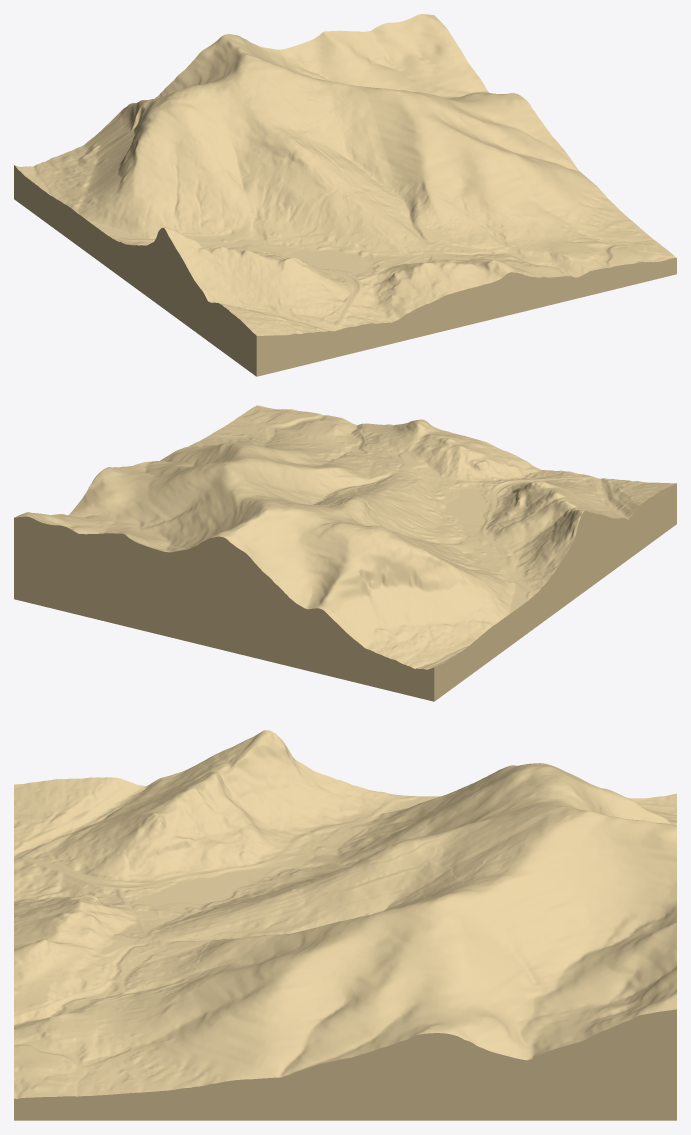
Rendered from cannon-tan.glb.
3 renders of one model, top to bottom at view 1: azimuth 30°, elevation 25°; view 2: azimuth 150°, elevation 25°; view 3: azimuth 270°, elevation 25°, orthographic. The views are drawn at different scales.
Parts seen in each view (by area): view 1: cannon cavity v2; view 2: cannon cavity v2; view 3: cannon cavity v2.
Boxes of the visible parts, left/top/right/bottom form: cannon cavity v2: left=14, top=14, right=676, bottom=376; cannon cavity v2: left=14, top=405, right=676, bottom=701; cannon cavity v2: left=14, top=730, right=676, bottom=1120.
Size of the model in its own units: 23.46 by 6.35 by 23.46.
